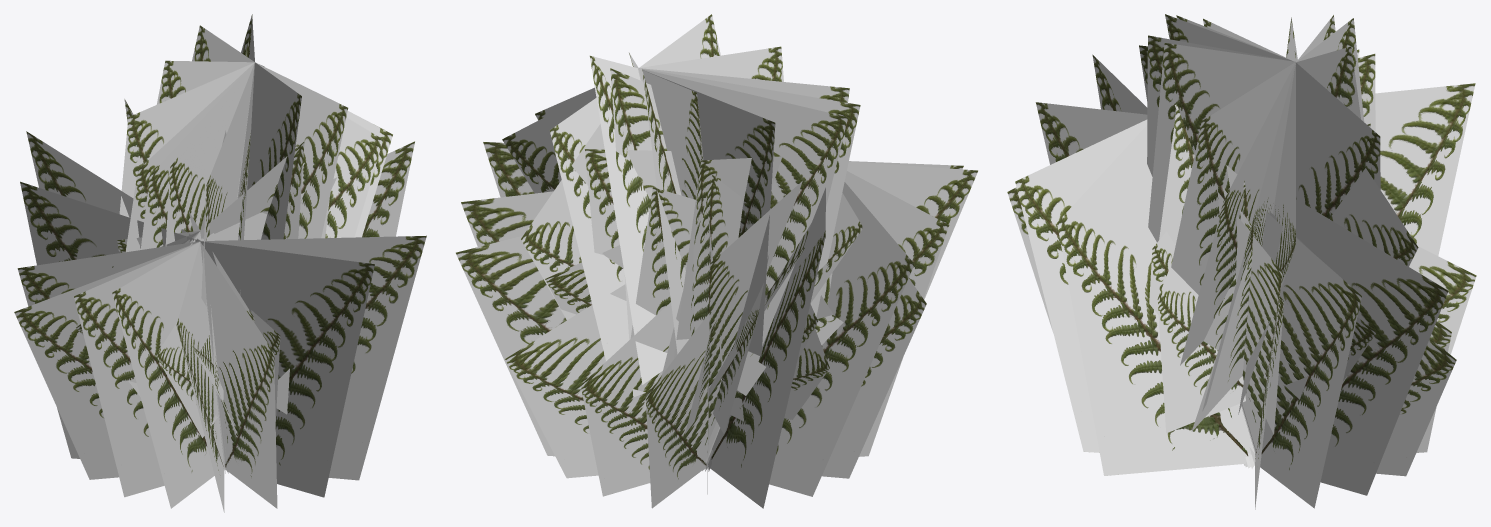
The model's file is fern1.fbx.
3 renders of one model, left to right at view 1: azimuth 30°, elevation 25°; view 2: azimuth 150°, elevation 25°; view 3: azimuth 270°, elevation 25°, orthographic. The views are drawn at different scales.
Parts seen in each view (by area): view 1: fernjs.003; view 2: fernjs.003; view 3: fernjs.003.
Part boxes in pixels (<box>): fernjs.003: <box>14,14,426,512</box>; fernjs.003: <box>456,14,977,508</box>; fernjs.003: <box>1007,14,1476,509</box>.
Size of the model in its own units: 153 by 145 by 135.
1 material, 1 textured.
